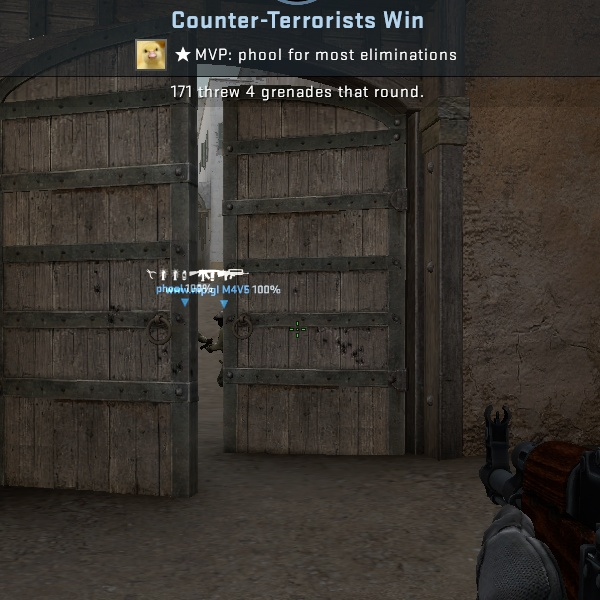ct_body: (200, 308, 224, 386)
ct_head: (213, 309, 224, 328)
